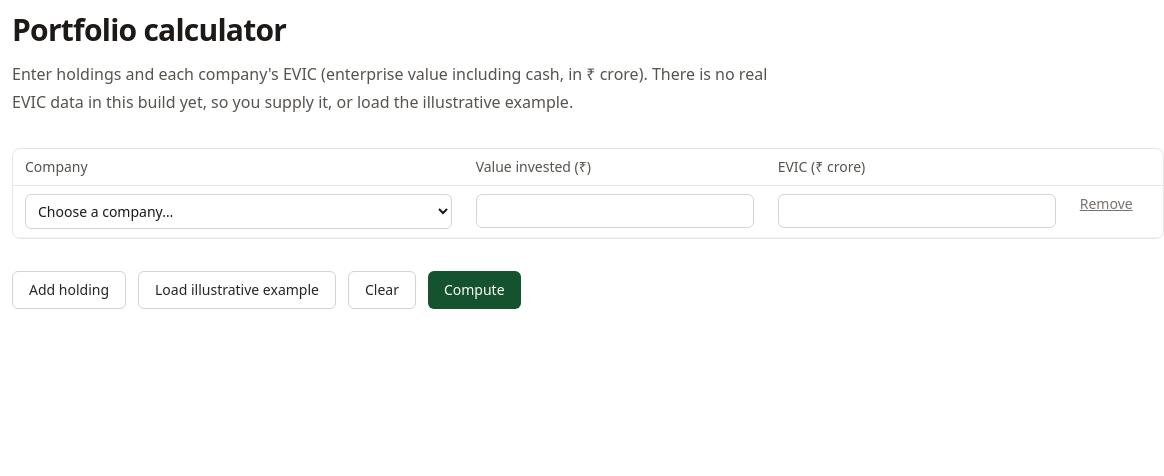
Scenario: Portfolio calculator › shows the illustrative banner when the example loads
Check: the dropdown named "Company for holding 1" is shown, box [25,194,452,229]
Click the button "Load illustrative example". click: x=237, y=290
box: [138,271,336,309]
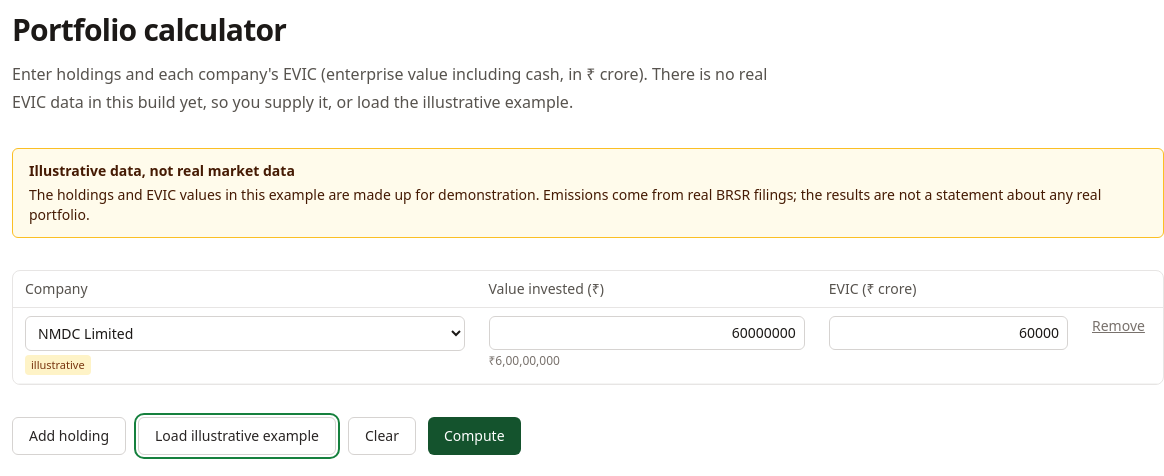
Check: the text "Illustrative data, not real market data" is shown, box [29,161,295,180]
Check: the dropdown named "Company for holding 1" shows "NMDC Limited", box [25,316,464,351]
Check: the 2nd field named "EVIC in rupees crore for holding 1" holds "60000", box [829,316,1068,350]
